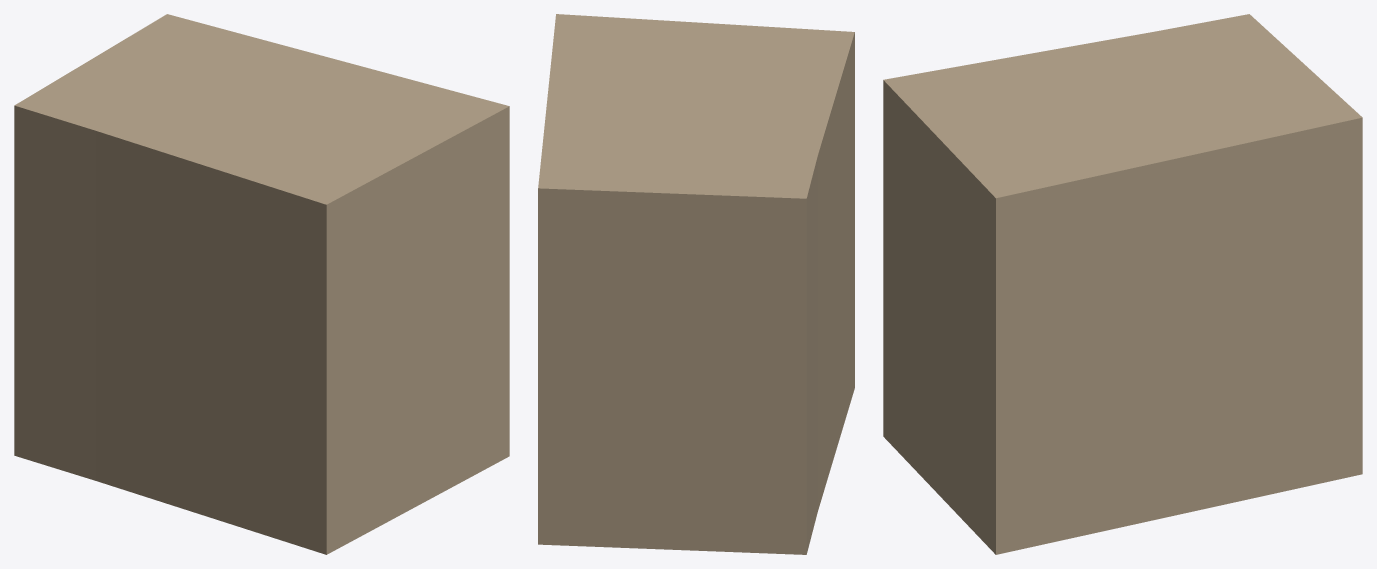
The model's file is bld_99007834.dae.
3 views of the same model, side by side, from view 1: azimuth 30°, elevation 25°; view 2: azimuth 150°, elevation 25°; view 3: azimuth 270°, elevation 25° (orthographic).
Visible parts, largest first — view 1: William H. Brown; view 2: William H. Brown; view 3: William H. Brown.
Boxes of the visible parts, <box> form: William H. Brown: <box>14,14,509,554</box>; William H. Brown: <box>538,14,854,554</box>; William H. Brown: <box>883,14,1362,554</box>.
Bounding box in the file's own units: 8.87 × 9.75 × 8.
